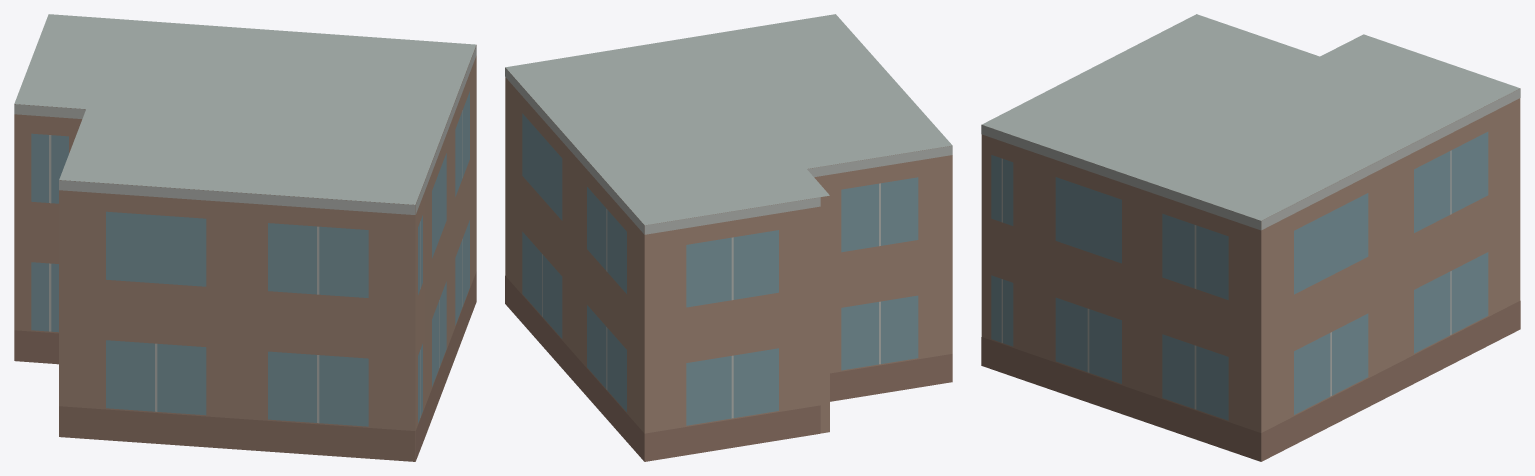
Rendered from survey-upis-32798594.glb.
The picture shows the model from 3 angles, left to right: view 1: azimuth 30°, elevation 25°; view 2: azimuth 150°, elevation 25°; view 3: azimuth 270°, elevation 25°; orthographic projection. The views are drawn at different scales.
Parts seen in each view (by area): view 1: survey-upis-32798594.tmp; view 2: survey-upis-32798594.tmp; view 3: survey-upis-32798594.tmp.
Part boxes in pixels (left/top/right/bottom): survey-upis-32798594.tmp: left=14, top=14, right=476, bottom=461; survey-upis-32798594.tmp: left=505, top=14, right=952, bottom=461; survey-upis-32798594.tmp: left=981, top=14, right=1520, bottom=461.
Bounding box in the file's own units: 11.23 × 6.1 × 12.37.
